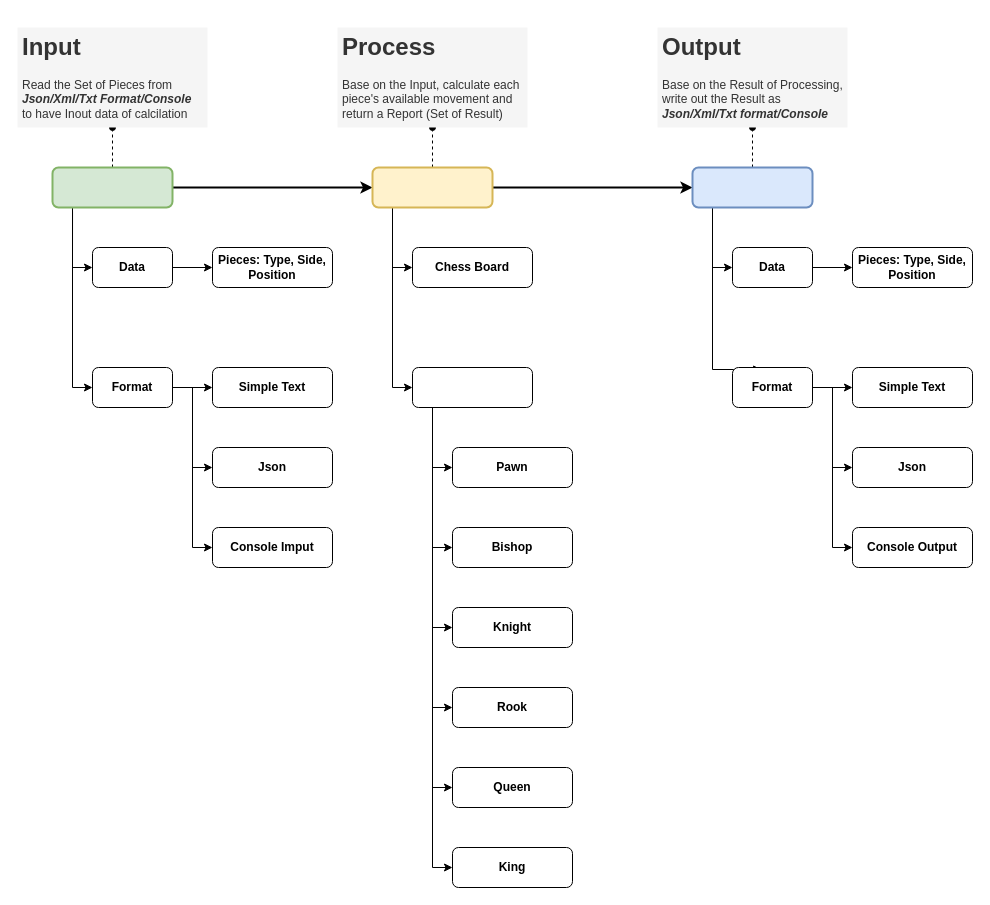
This 990x905 diagram has some shape labels left out. The shapes that lost their labels are listed below. From the top down, each one's centre as x and y in pixels, then its label:
At (x=112, y=187): "Input".
At (x=432, y=187): "Process".
At (x=752, y=187): "Output".
At (x=472, y=387): "Piece".
